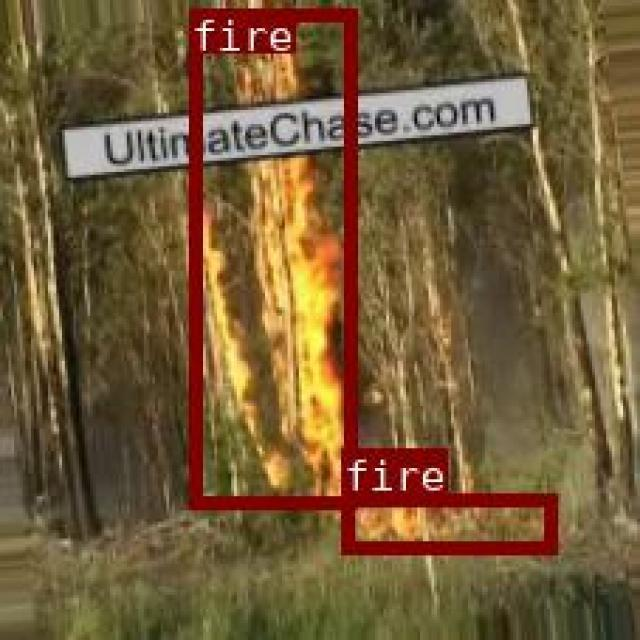fire: (188, 6, 354, 506), (339, 493, 554, 551)
